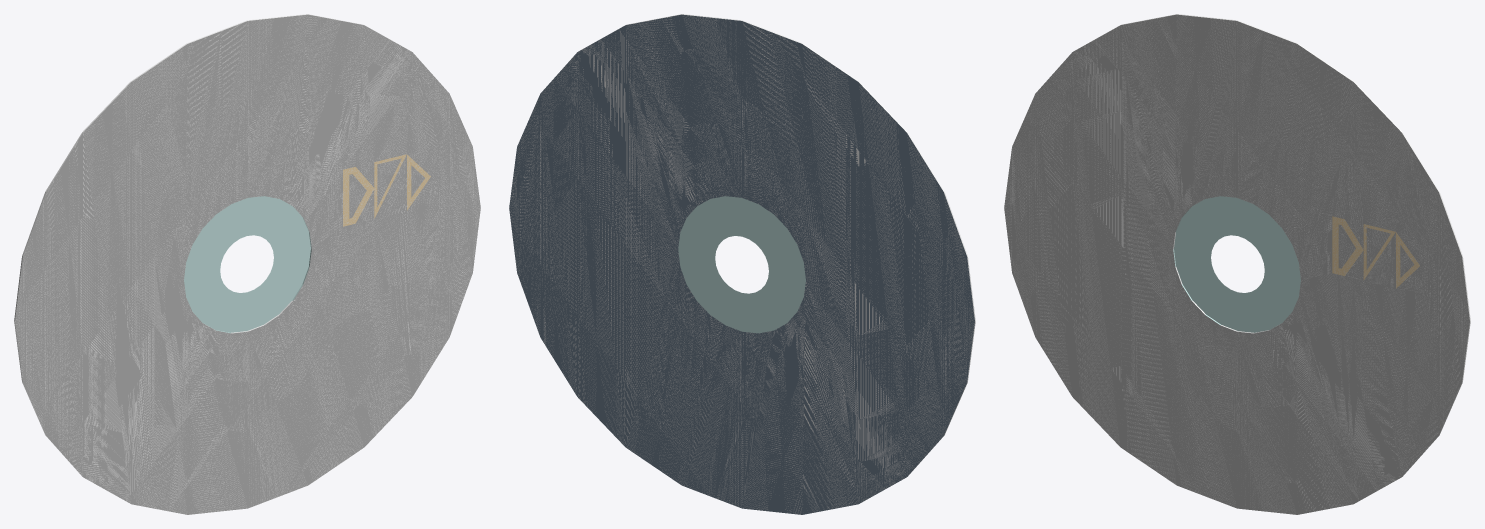
The picture shows the model from 3 angles, left to right: view 1: azimuth 30°, elevation 25°; view 2: azimuth 150°, elevation 25°; view 3: azimuth 330°, elevation 25°; orthographic projection.
Parts seen in each view (by area): view 1: dvd; view 2: dvd; view 3: dvd.
Boxes of the visible parts, box(x1,y1,x2,y2) form: dvd: box(14, 14, 480, 514); dvd: box(509, 14, 975, 514); dvd: box(1004, 14, 1470, 514).
Size of the model in its own units: 83.5 by 83.5 by 0.25.
